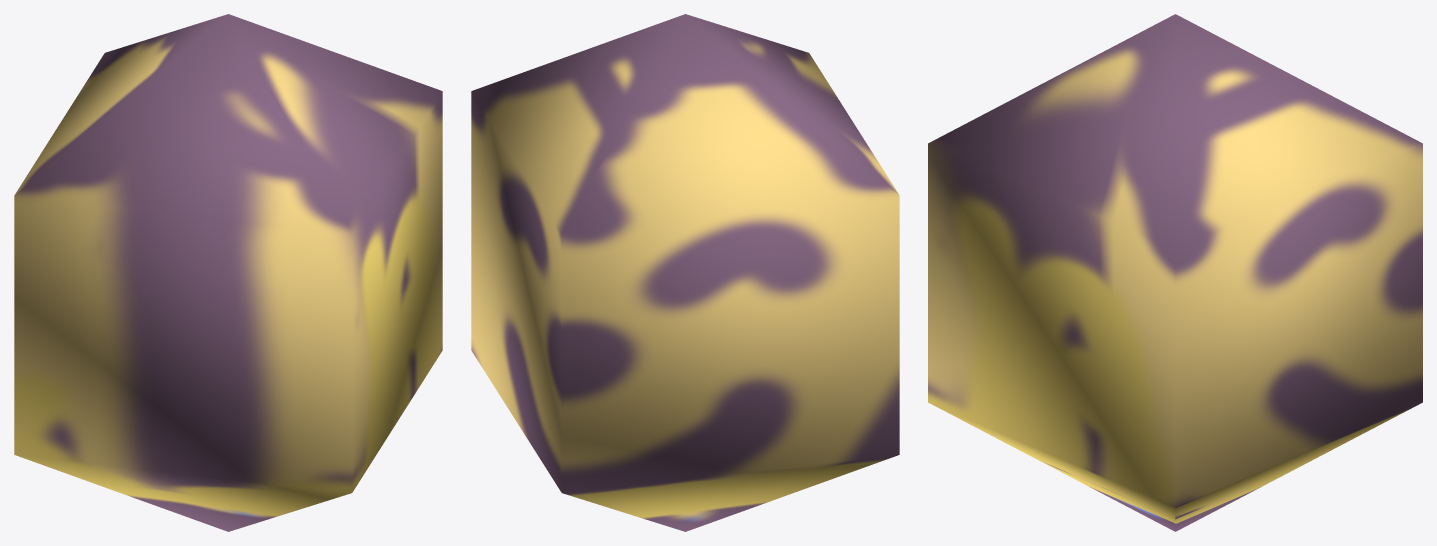
File: jack.gltf
3 renders of one model, left to right at view 1: azimuth 30°, elevation 25°; view 2: azimuth 150°, elevation 25°; view 3: azimuth 270°, elevation 25°, orthographic.
Parts seen in each view (by area): view 1: Sphere; view 2: Sphere; view 3: Sphere.
Boxes of the visible parts, <box> form: Sphere: <box>14,14,442,531</box>; Sphere: <box>471,14,899,531</box>; Sphere: <box>928,14,1422,531</box>.
Size of the model in its own units: 1.73 by 1.99 by 1.73.
Materials: 1 (1 with a texture image).
